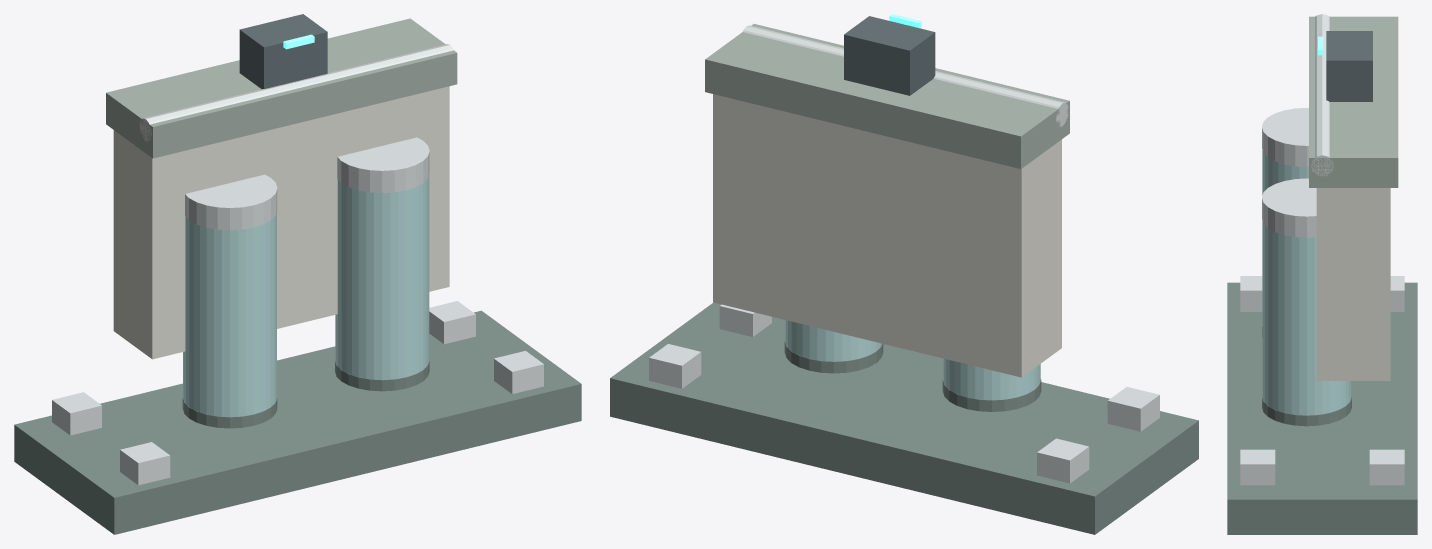
The model's file is s7-i02-filter-double.glb.
3 views of the same model, side by side, from view 1: azimuth 30°, elevation 25°; view 2: azimuth 150°, elevation 25°; view 3: azimuth 270°, elevation 25° (orthographic). The views are drawn at different scales.
Visible parts, largest first — view 1: 000_reinforced_industrial_base, 005_filtration_backplate, 006_water_manifold_top, 014_filter_translucent_canister_1, 007_filter_translucent_canister_0, 022_filter_status_controller, 009_steel_filter_cap_0, 016_steel_filter_cap_1, 021_cleanwater_trunk, 002_mounting_foot, 001_mounting_foot, 004_mounting_foot (+3 smaller); view 2: 005_filtration_backplate, 000_reinforced_industrial_base, 006_water_manifold_top, 022_filter_status_controller, 007_filter_translucent_canister_0, 014_filter_translucent_canister_1, 021_cleanwater_trunk, 003_mounting_foot, 001_mounting_foot, 002_mounting_foot, 017_filter_bottom_lock_1, 010_filter_bottom_lock_0 (+1 smaller); view 3: 000_reinforced_industrial_base, 005_filtration_backplate, 014_filter_translucent_canister_1, 006_water_manifold_top, 022_filter_status_controller, 016_steel_filter_cap_1, 009_steel_filter_cap_0, 021_cleanwater_trunk, 003_mounting_foot, 004_mounting_foot, 017_filter_bottom_lock_1, 007_filter_translucent_canister_0 (+2 smaller).
Boxes of the visible parts, bbox=[...] form: 000_reinforced_industrial_base: bbox=[14, 310, 581, 534]; 005_filtration_backplate: bbox=[113, 86, 449, 359]; 006_water_manifold_top: bbox=[106, 18, 457, 158]; 014_filter_translucent_canister_1: bbox=[335, 175, 429, 379]; 007_filter_translucent_canister_0: bbox=[183, 212, 276, 417]; 022_filter_status_controller: bbox=[239, 14, 327, 88]; 009_steel_filter_cap_0: bbox=[185, 174, 277, 230]; 016_steel_filter_cap_1: bbox=[337, 137, 429, 192]; 021_cleanwater_trunk: bbox=[139, 44, 453, 141]; 002_mounting_foot: bbox=[120, 442, 170, 485]; 001_mounting_foot: bbox=[52, 392, 101, 435]; 004_mounting_foot: bbox=[494, 351, 543, 393]; 005_filtration_backplate: bbox=[713, 94, 1061, 377]; 000_reinforced_industrial_base: bbox=[610, 302, 1198, 534]; 006_water_manifold_top: bbox=[705, 24, 1069, 168]; 022_filter_status_controller: bbox=[844, 16, 935, 95]; 007_filter_translucent_canister_0: bbox=[943, 358, 1040, 400]; 014_filter_translucent_canister_1: bbox=[785, 320, 881, 361]; 021_cleanwater_trunk: bbox=[742, 25, 1068, 126]; 003_mounting_foot: bbox=[649, 344, 701, 388]; 001_mounting_foot: bbox=[1037, 438, 1089, 483]; 002_mounting_foot: bbox=[1107, 387, 1159, 431]; 017_filter_bottom_lock_1: bbox=[784, 340, 883, 373]; 010_filter_bottom_lock_0: bbox=[942, 378, 1041, 411]; 000_reinforced_industrial_base: bbox=[1227, 282, 1417, 534]; 005_filtration_backplate: bbox=[1316, 188, 1390, 380]; 014_filter_translucent_canister_1: bbox=[1262, 221, 1351, 415]; 006_water_manifold_top: bbox=[1309, 16, 1398, 187]; 022_filter_status_controller: bbox=[1326, 31, 1372, 101]; 016_steel_filter_cap_1: bbox=[1262, 178, 1316, 237]; 009_steel_filter_cap_0: bbox=[1262, 107, 1308, 166]; 021_cleanwater_trunk: bbox=[1311, 14, 1333, 176]; 003_mounting_foot: bbox=[1369, 449, 1404, 485]; 004_mounting_foot: bbox=[1240, 449, 1275, 485]; 017_filter_bottom_lock_1: bbox=[1262, 396, 1351, 426]; 007_filter_translucent_canister_0: bbox=[1262, 150, 1308, 194].
Bounding box in the file's own units: 1.32 × 1.09 × 0.49.
